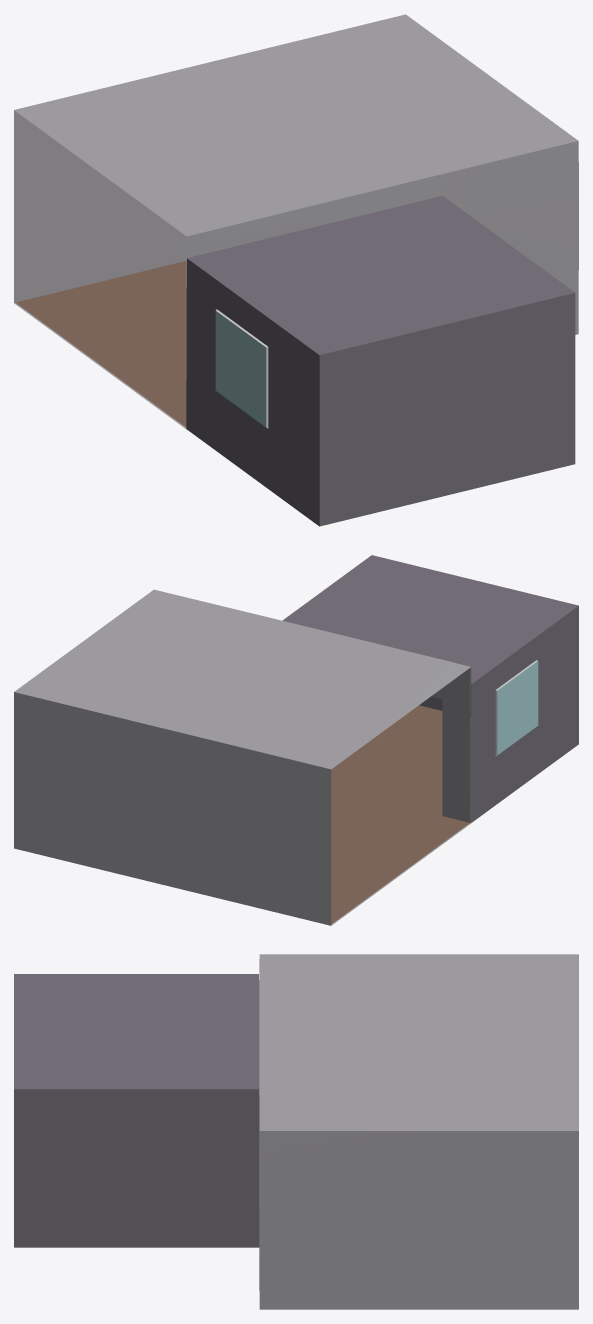
Rendered from Room.fbx.
The picture shows the model from 3 angles, top to bottom: view 1: azimuth 30°, elevation 25°; view 2: azimuth 150°, elevation 25°; view 3: azimuth 270°, elevation 25°; orthographic projection. The views are drawn at different scales.
Parts seen in each view (by area): view 1: Room; view 2: Room; view 3: Room.
Boxes of the visible parts, box(x1,y1,x2,y2) form: Room: box(14, 14, 578, 526); Room: box(14, 555, 578, 925); Room: box(14, 954, 578, 1309).
Size of the model in its own units: 4.82 by 6.48 by 2.27.
